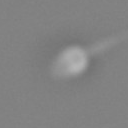normal: (85, 22, 128, 53)
